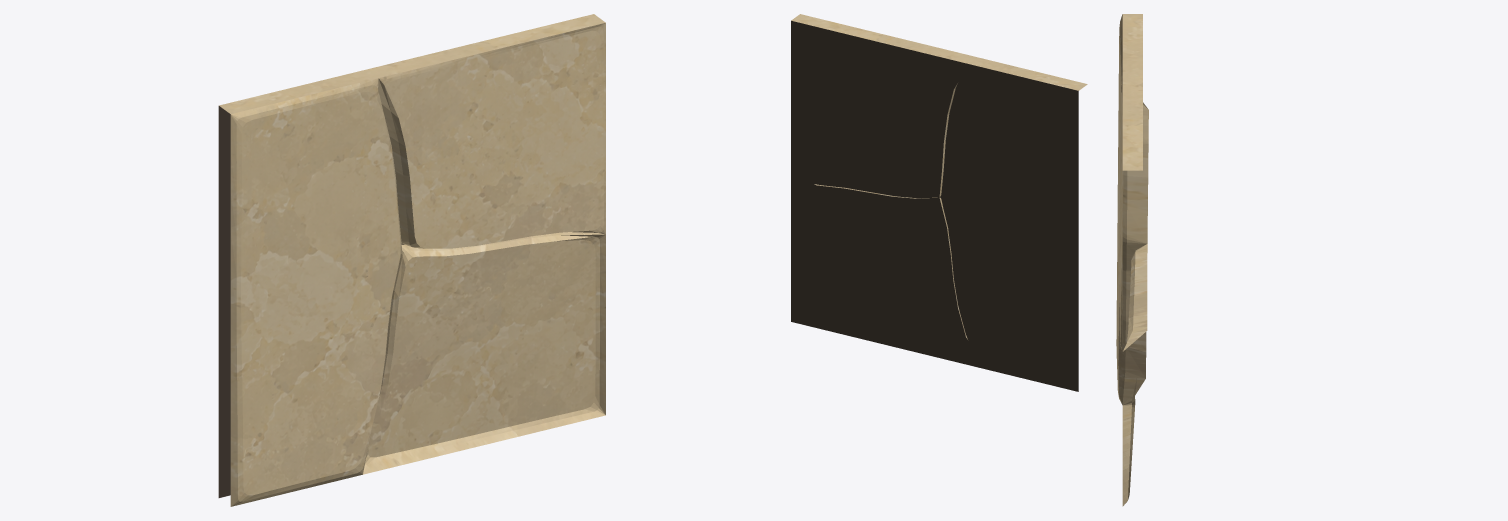
File: ground_square_edge_03.glb
3 renders of one model, left to right at view 1: azimuth 30°, elevation 25°; view 2: azimuth 150°, elevation 25°; view 3: azimuth 270°, elevation 25°, orthographic. The views are drawn at different scales.
Parts seen in each view (by area): view 1: GroundSquareEdge03_Body; view 2: GroundSquareEdge03_Body; view 3: GroundSquareEdge03_Body.
Part boxes in pixels (left/top/right/bottom): GroundSquareEdge03_Body: left=218, top=14, right=605, bottom=506; GroundSquareEdge03_Body: left=791, top=14, right=1087, bottom=391; GroundSquareEdge03_Body: left=1116, top=14, right=1148, bottom=506.
Size of the model in its own units: 1 by 1 by 1.02.
5 materials, 4 textured.
